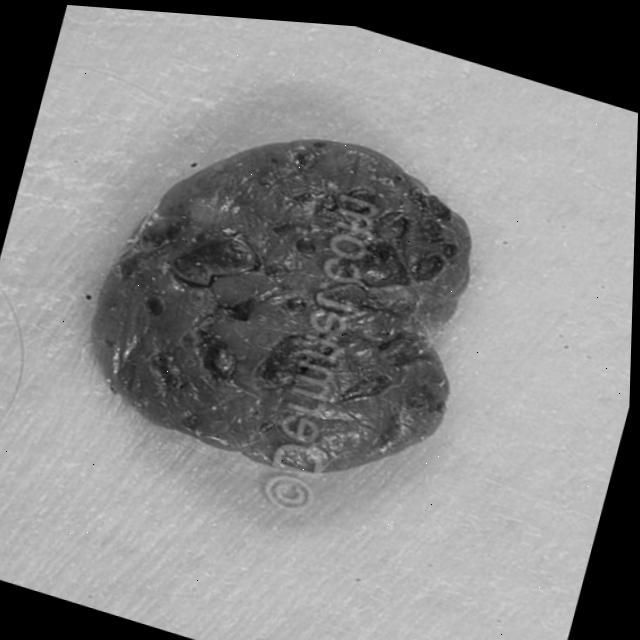Eczema: (36, 82, 475, 540)
